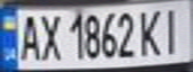1: (63, 10, 84, 60)
2: (115, 8, 139, 59)
6: (100, 9, 121, 60)
8: (81, 9, 103, 60)
A: (15, 11, 42, 62)
I: (157, 3, 190, 55)
K: (136, 6, 166, 57)
X: (36, 10, 63, 62)
